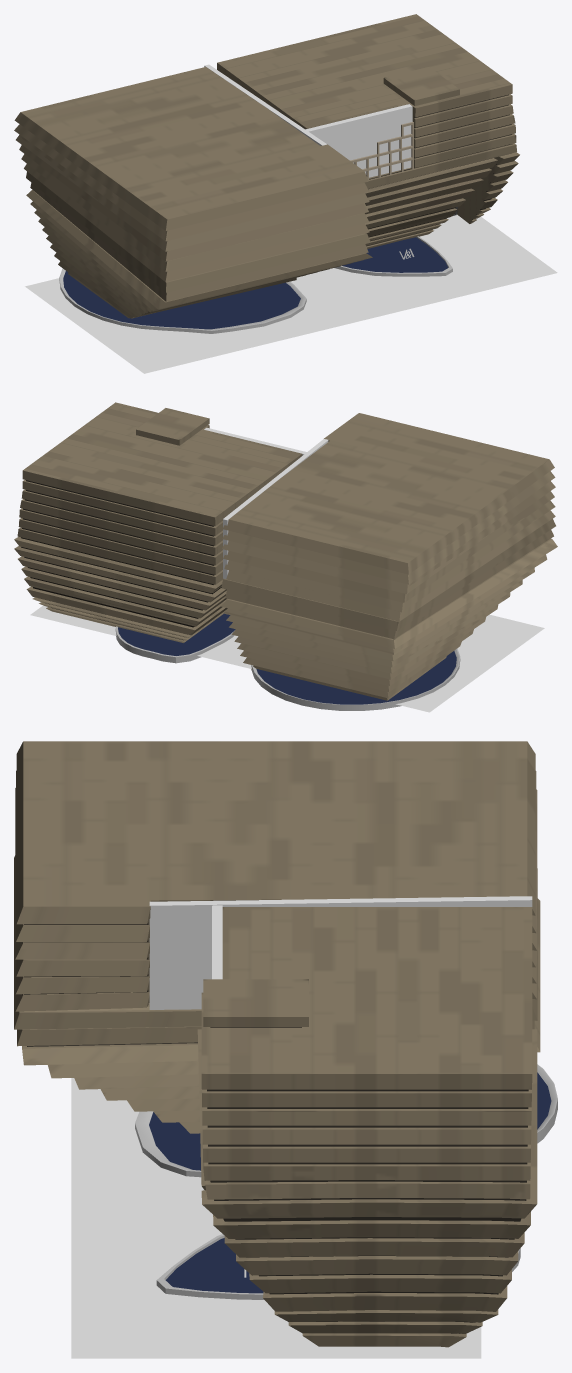
3 views of the same model, one above another, from view 1: azimuth 30°, elevation 25°; view 2: azimuth 150°, elevation 25°; view 3: azimuth 270°, elevation 25° (orthographic). The views are drawn at different scales.
Visible parts, largest first — view 1: V&A, Ground.007, Ground.006; view 2: V&A, Ground.006, Ground.007; view 3: V&A, Ground.007, Ground.006.
Boxes of the visible parts, x1,y1,x2,y2 form: V&A: (14,14,519,333); Ground.007: (293,214,557,323); Ground.006: (25,278,350,373); V&A: (14,402,557,710); Ground.006: (230,614,544,712); Ground.007: (30,605,243,663); V&A: (14,741,557,1347); Ground.007: (71,1185,481,1358); Ground.006: (71,1078,201,1185).
Size of the model in its own units: 4021 by 1599 by 2653.
8 materials, 1 textured.
